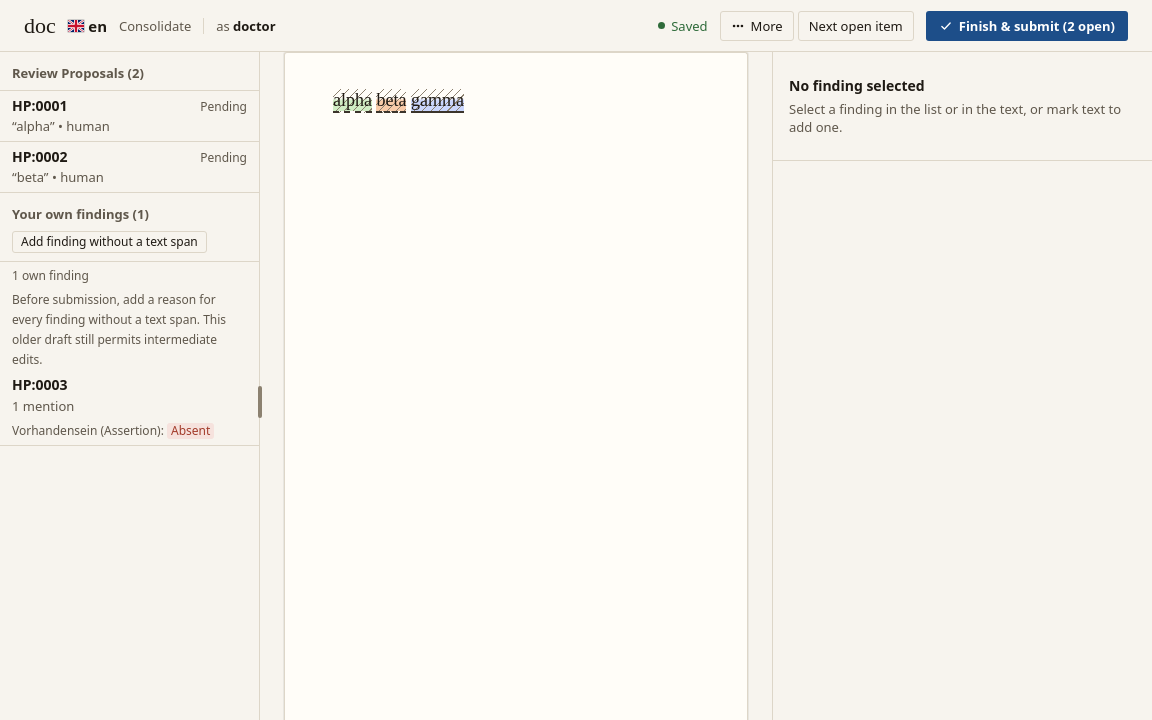
Workflow Regressions › renders all review targets and own annotations in text with distinct styling and allows picking
expect the number of elements with class "run--target" is 2: met, box [333,89,372,113]; [376,89,406,113]
expect the text with class "run--target" reads "alpha": met, box [333,90,372,110]
// Clicking the own mention in the text selects the own annotation:
Click the text with class "run--own": (438, 101) [411,89,464,113]
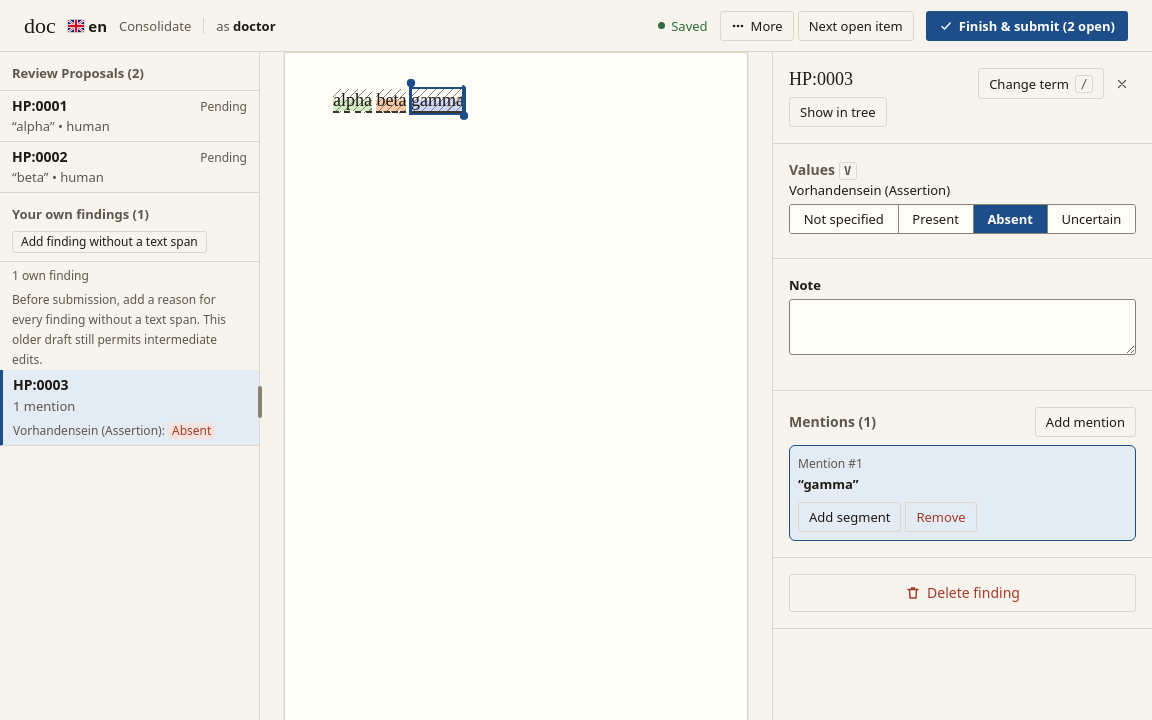
expect the heading "Values V" is shown: met, box [789,160,857,180]
// Clicking a target mention in the text selects that review target:
Click the text with class "run--target" showing "beta": (392, 101) [376,89,406,113]
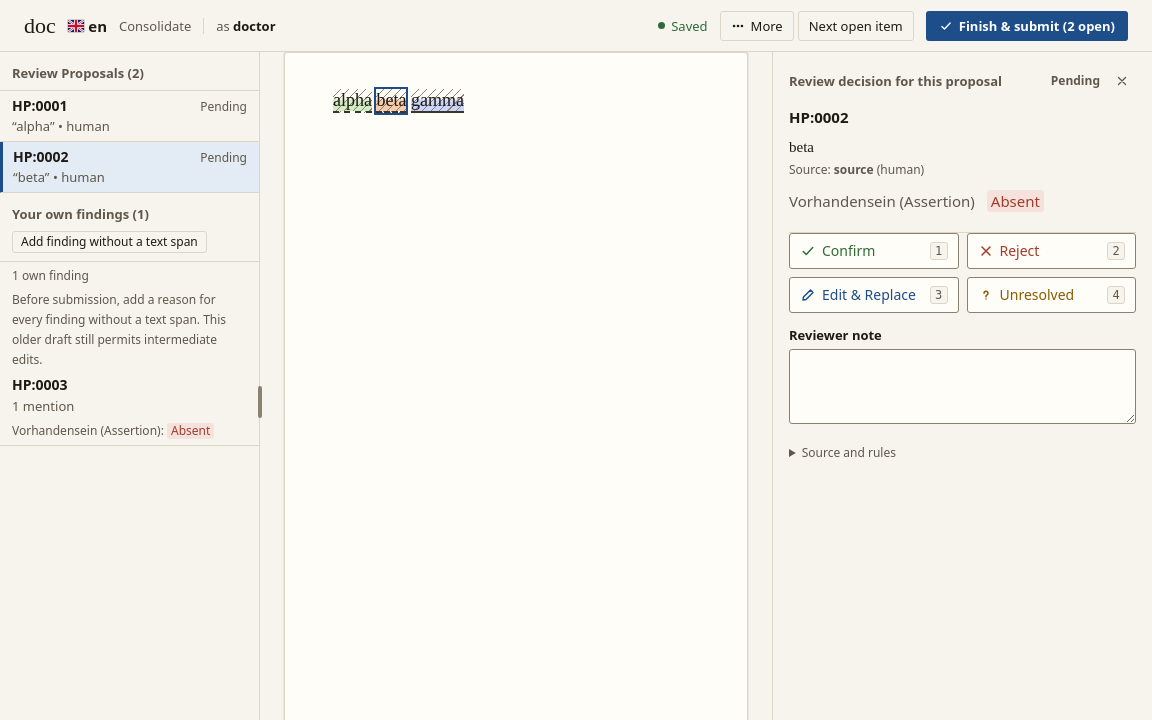
expect the heading "Review decision for this proposal" is shown: met, box [789,72,1002,90]
expect the heading "Values" is gone: met
